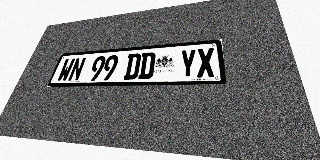9: (88, 56, 107, 81), (100, 55, 119, 80)
D: (123, 53, 142, 80), (138, 52, 156, 79)
N: (67, 57, 86, 81)
W: (56, 58, 76, 82)
X: (197, 47, 215, 78)
Y: (179, 49, 196, 78)
